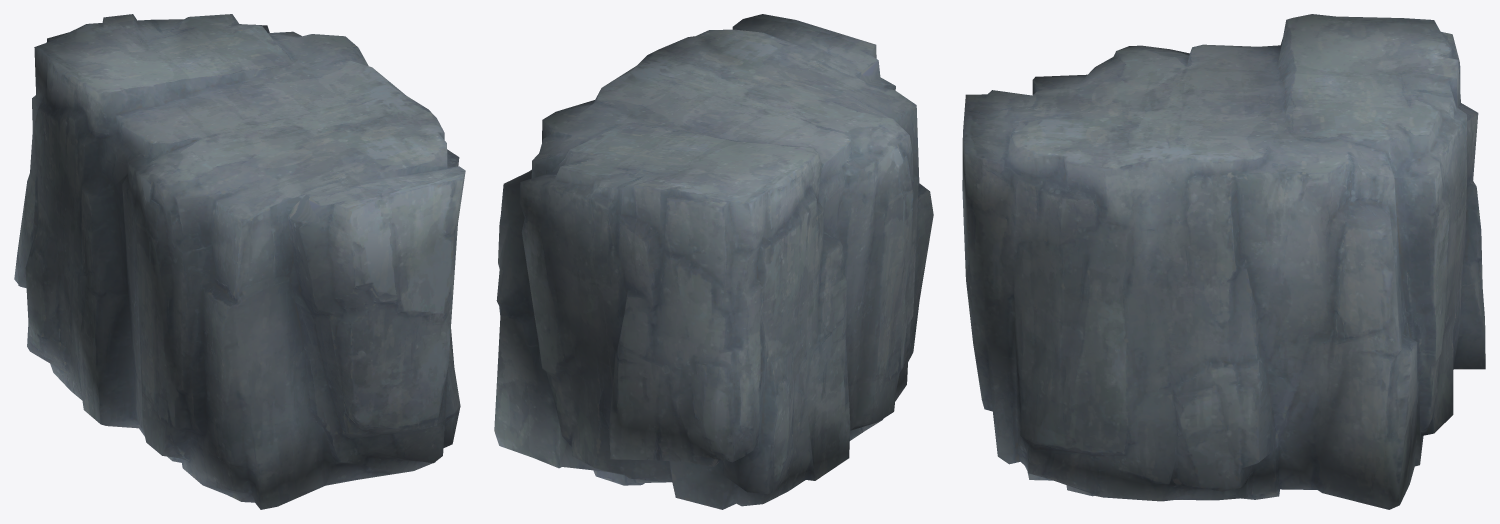
The model's file is Area_Cyjy_Stone_UP_Full_M_05.fbx.
3 renders of one model, left to right at view 1: azimuth 30°, elevation 25°; view 2: azimuth 150°, elevation 25°; view 3: azimuth 270°, elevation 25°, orthographic. The views are drawn at different scales.
Parts seen in each view (by area): view 1: Area_Cyjy_Stone_UP_Full_M_05_StoneTint_Lod1; view 2: Area_Cyjy_Stone_UP_Full_M_05_StoneTint_Lod1; view 3: Area_Cyjy_Stone_UP_Full_M_05_StoneTint_Lod1.
Boxes of the visible parts, left/top/right/bottom form: Area_Cyjy_Stone_UP_Full_M_05_StoneTint_Lod1: left=14, top=14, right=465, bottom=509; Area_Cyjy_Stone_UP_Full_M_05_StoneTint_Lod1: left=494, top=14, right=933, bottom=509; Area_Cyjy_Stone_UP_Full_M_05_StoneTint_Lod1: left=962, top=14, right=1485, bottom=509.
Bounding box in the file's own units: 34.49 × 37.49 × 48.98.
Materials: 1 (1 with a texture image).
